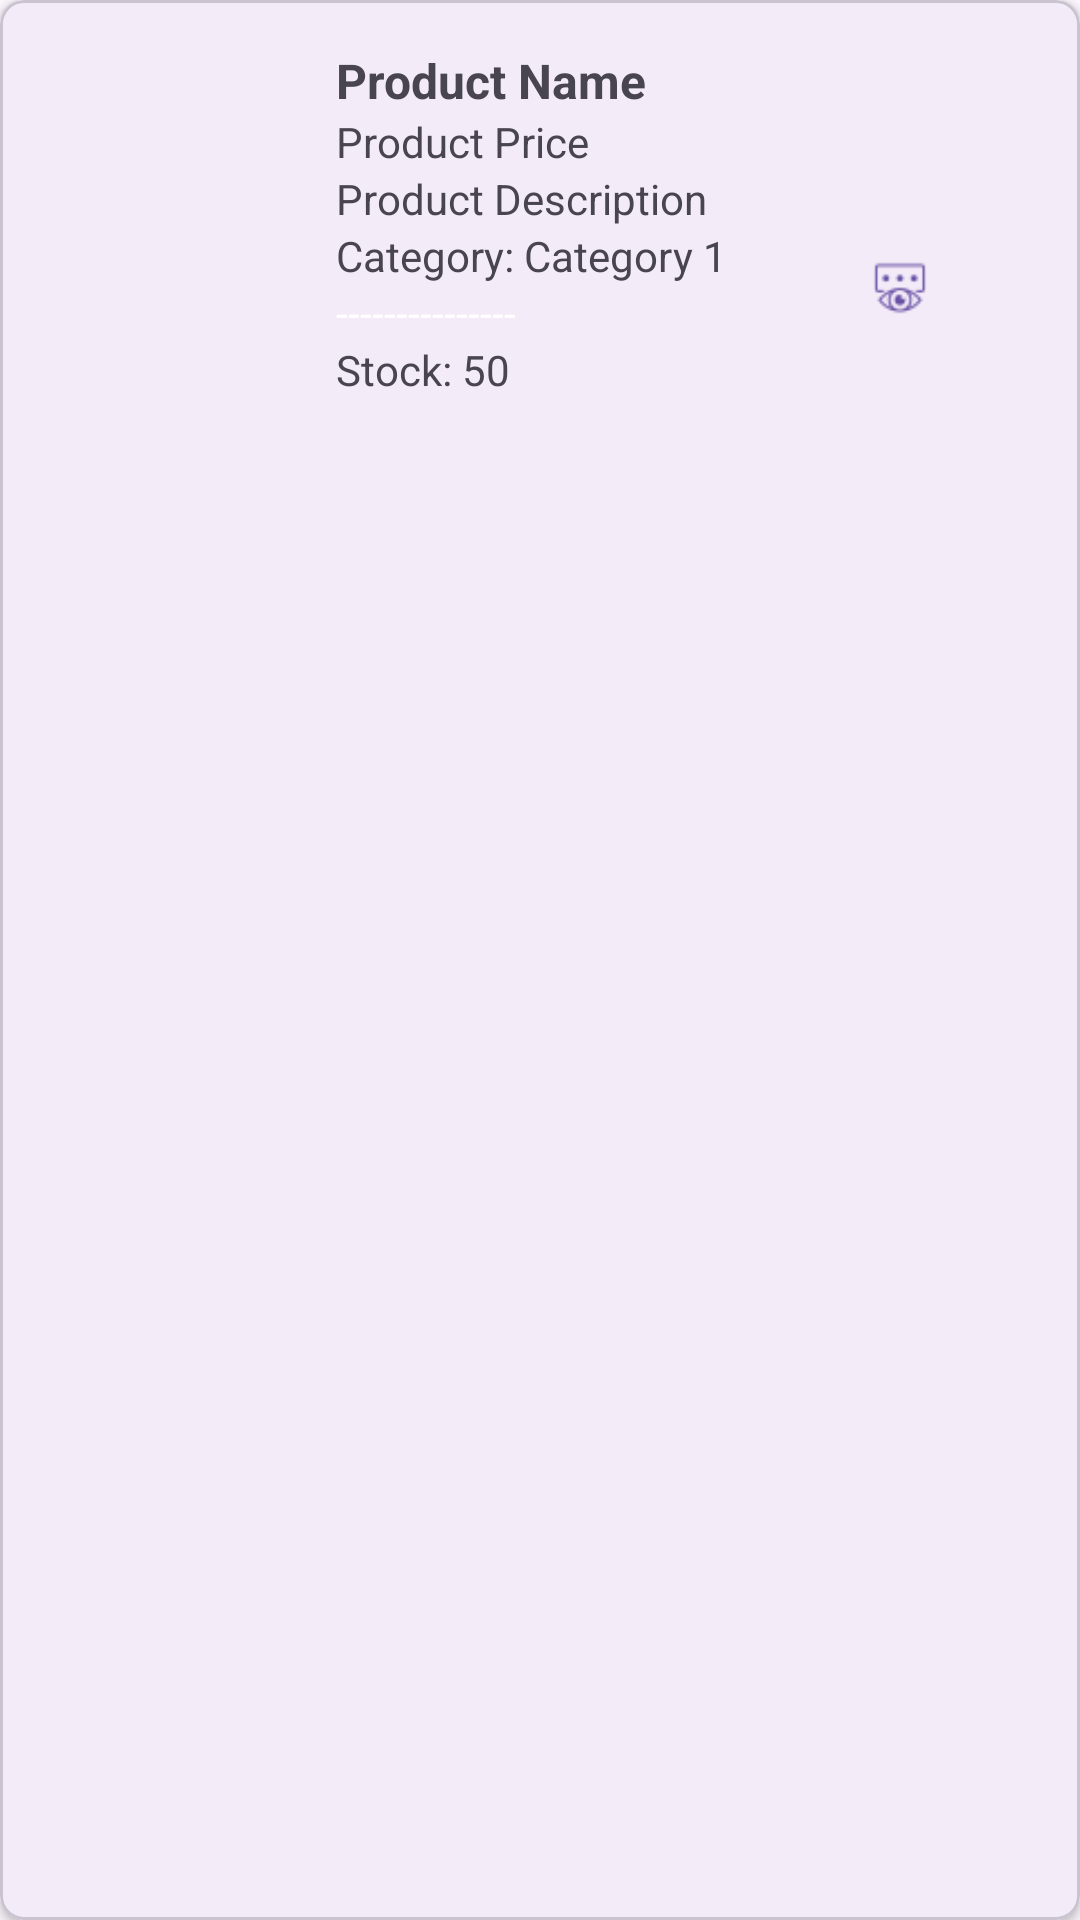

Screen size 1080 × 1920. Icon name, then its box in pixels as (x1, y1, x2, y2):
eye on: (874, 263, 926, 313)
